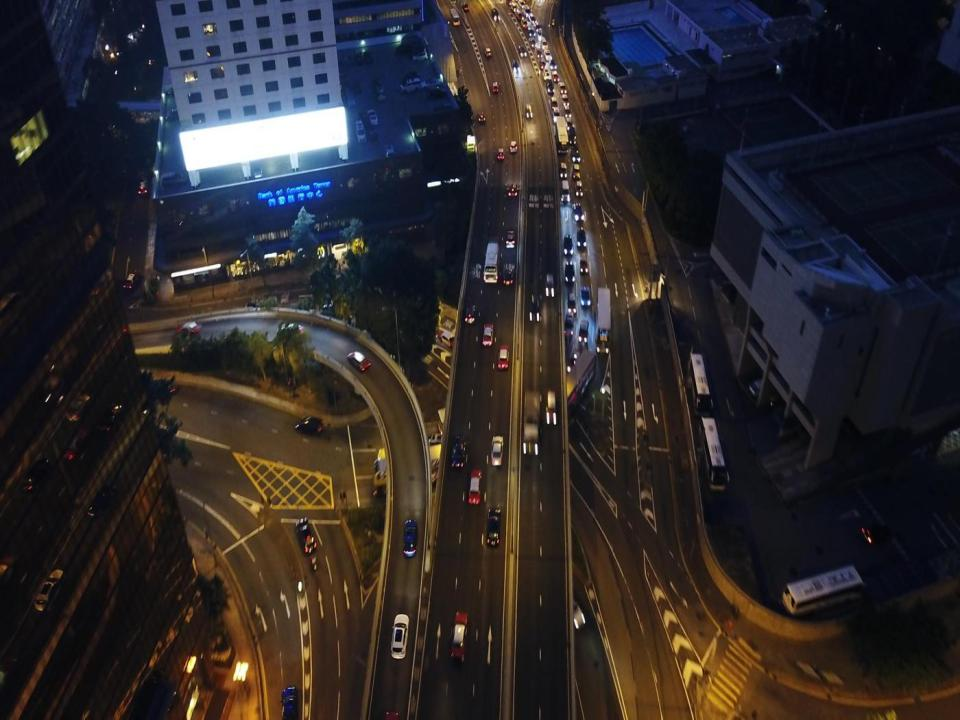bus: (783, 566, 863, 615), (555, 349, 596, 416), (698, 416, 730, 490), (690, 354, 712, 415), (596, 287, 611, 354), (484, 241, 498, 283), (555, 116, 568, 154), (449, 8, 460, 26)
car: (373, 440, 454, 486), (438, 390, 507, 436), (561, 594, 586, 629), (450, 611, 468, 659), (391, 613, 409, 658), (296, 517, 316, 554), (280, 686, 298, 719), (347, 350, 371, 373), (486, 508, 500, 547), (403, 520, 418, 556), (294, 417, 324, 434), (468, 469, 482, 503), (360, 112, 376, 140), (434, 330, 458, 347), (173, 321, 201, 335), (452, 439, 466, 466), (491, 435, 503, 466), (276, 323, 304, 336), (529, 294, 540, 321), (400, 78, 421, 92), (124, 271, 140, 289), (354, 120, 366, 142), (421, 78, 443, 90), (350, 74, 363, 94), (427, 86, 447, 98), (498, 345, 508, 369), (483, 324, 493, 346), (580, 286, 591, 306), (567, 292, 577, 314), (383, 144, 395, 162), (545, 273, 554, 297), (360, 48, 374, 63), (345, 87, 355, 107), (465, 304, 475, 324), (401, 72, 420, 82), (368, 109, 379, 126), (570, 145, 580, 163), (412, 50, 428, 61), (503, 268, 513, 285), (580, 252, 588, 272), (506, 230, 514, 248), (138, 179, 147, 194), (354, 50, 363, 65), (508, 184, 518, 196), (575, 181, 583, 196), (518, 44, 526, 57), (558, 82, 567, 93), (552, 70, 560, 82), (544, 50, 552, 61), (565, 117, 572, 129), (478, 112, 486, 122), (534, 48, 542, 58), (528, 28, 536, 38), (497, 148, 504, 159), (539, 60, 546, 70), (534, 24, 542, 32), (516, 11, 524, 19), (521, 18, 528, 27), (484, 48, 492, 55), (511, 4, 519, 11), (462, 4, 470, 10)
truck: (523, 391, 541, 455)
van: (546, 391, 557, 425), (372, 78, 386, 102), (578, 320, 589, 344), (563, 312, 574, 336), (571, 203, 584, 221), (563, 234, 573, 257), (565, 260, 575, 282), (577, 226, 586, 248), (562, 180, 570, 202), (567, 127, 576, 143), (545, 79, 554, 94), (553, 107, 561, 123), (526, 103, 534, 118), (522, 4, 531, 17), (492, 7, 500, 21), (512, 59, 520, 73), (559, 163, 567, 177), (540, 36, 548, 49), (573, 164, 580, 178), (562, 94, 569, 108), (542, 68, 550, 80), (529, 14, 537, 26), (551, 98, 558, 111), (564, 106, 572, 117), (510, 140, 517, 152), (548, 60, 556, 70), (529, 38, 536, 48), (492, 82, 498, 92)
